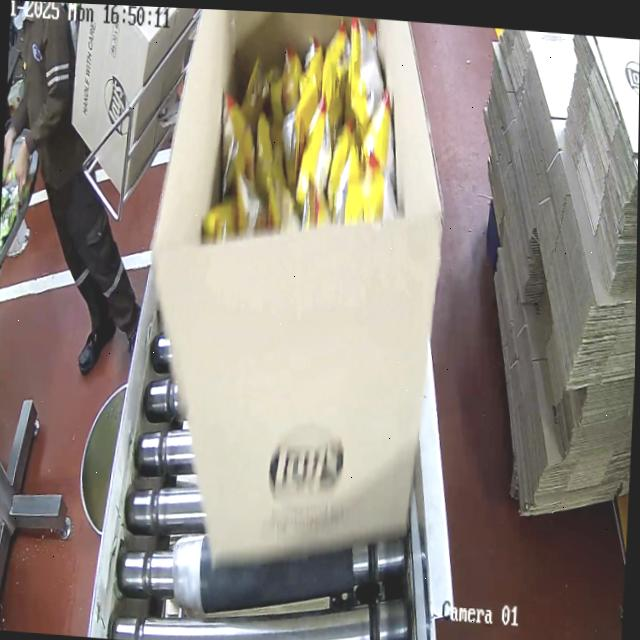SALTED: (197, 9, 403, 262)
